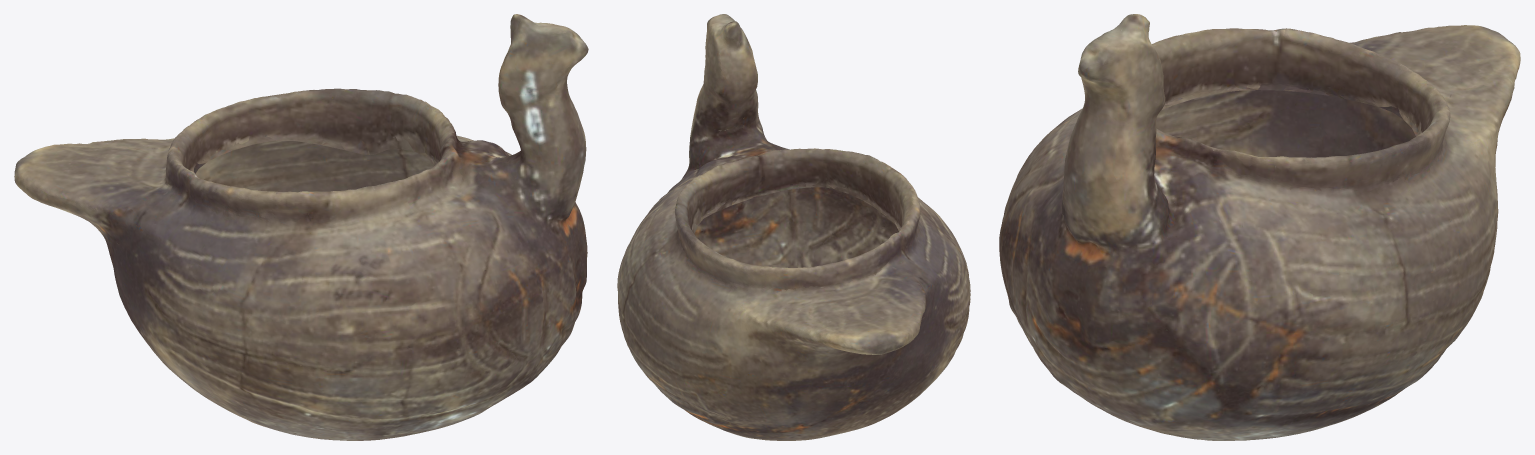
File: Ark_HM_725_HI.glb
3 renders of one model, left to right at view 1: azimuth 30°, elevation 25°; view 2: azimuth 150°, elevation 25°; view 3: azimuth 270°, elevation 25°, orthographic. The views are drawn at different scales.
Size of the model in its own units: 0.4993 by 0.4521 by 0.4704.
1 material, 1 textured.
